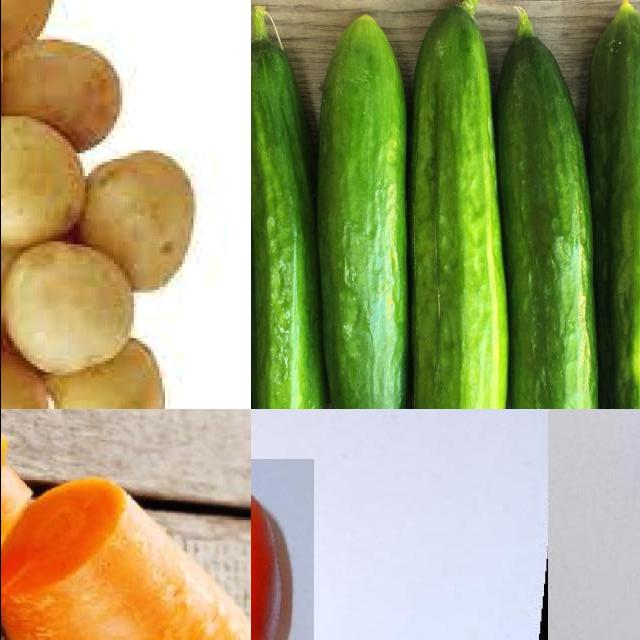carrot: (1, 477, 251, 640)
cucumber: (412, 2, 507, 410), (498, 26, 598, 410), (320, 9, 413, 410), (251, 33, 327, 410), (591, 1, 640, 410)
potato: (1, 242, 132, 373), (82, 158, 192, 292), (1, 38, 119, 152), (1, 112, 83, 242), (55, 343, 166, 410)
tomato: (251, 460, 314, 640)
